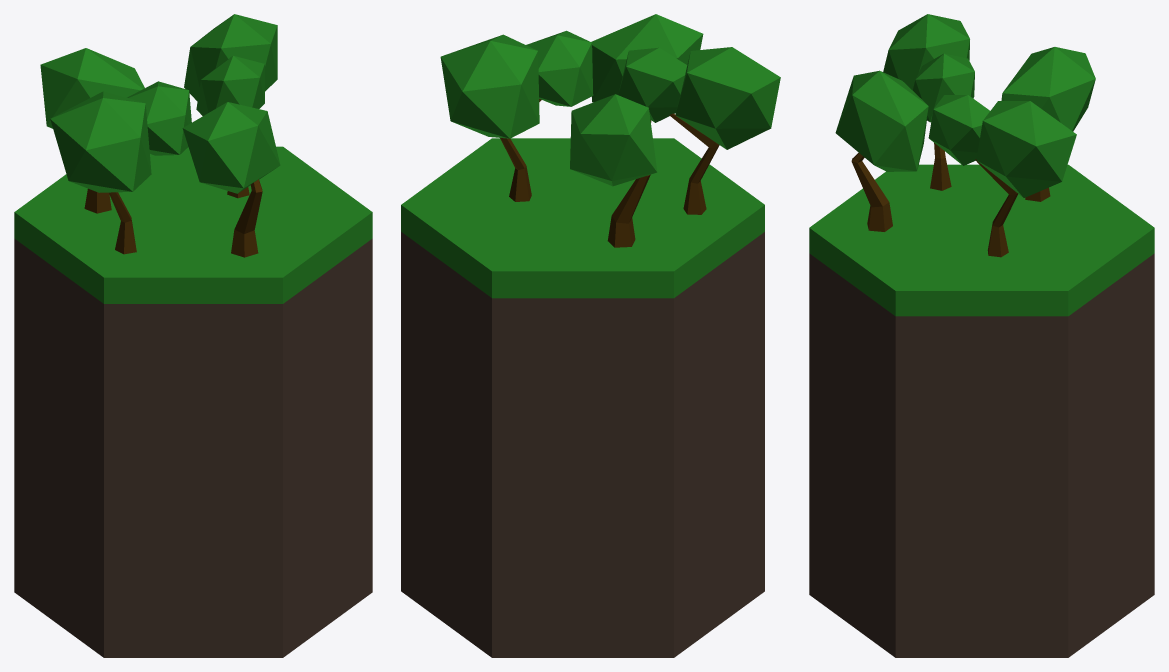
File: TreeTile.fbx
3 views of the same model, side by side, from view 1: azimuth 30°, elevation 25°; view 2: azimuth 150°, elevation 25°; view 3: azimuth 270°, elevation 25° (orthographic). The views are drawn at different scales.
Visible parts, largest first — view 1: Cylinder; view 2: Cylinder; view 3: Cylinder.
Boxes of the visible parts, box(x1,y1,x2,y2) form: Cylinder: box(14, 14, 372, 657); Cylinder: box(401, 14, 780, 657); Cylinder: box(809, 14, 1154, 657).
Size of the model in its own units: 187 by 335 by 200.
